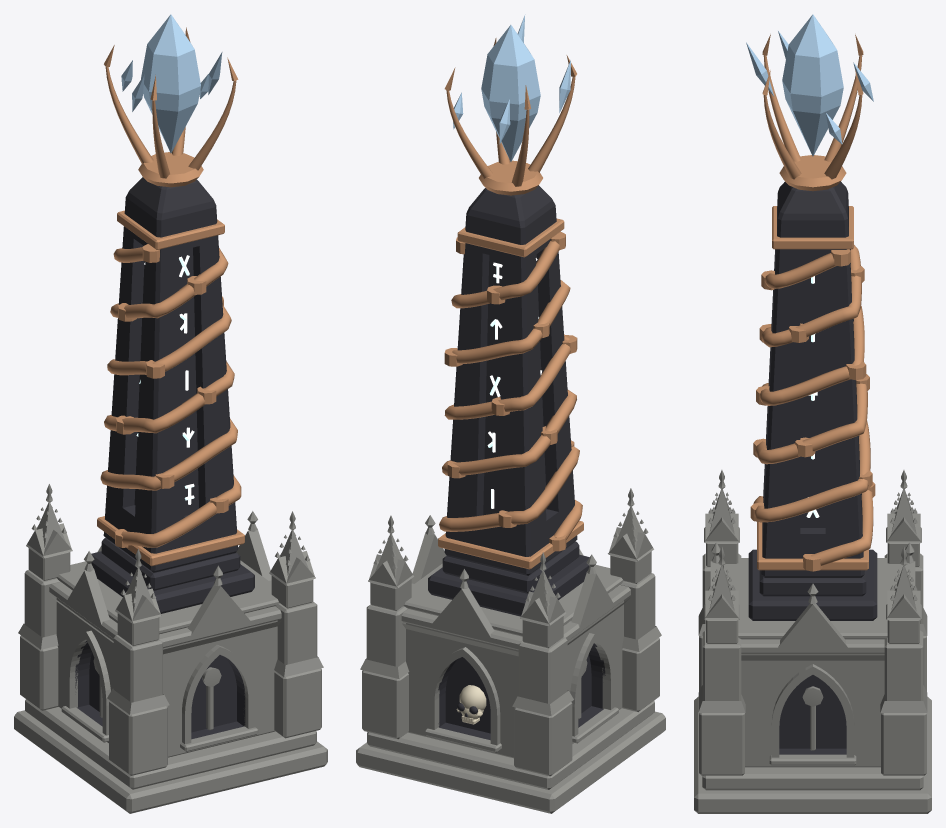
The model's file is tower_storm_3.glb.
The picture shows the model from 3 angles, left to right: view 1: azimuth 30°, elevation 25°; view 2: azimuth 150°, elevation 25°; view 3: azimuth 270°, elevation 25°; orthographic projection. The views are drawn at different scales.
Visible parts, largest first — view 1: tower, crystal; view 2: tower, crystal; view 3: tower, crystal.
Part boxes in pixels (bbox=[...]): tower: bbox=[14, 27, 327, 813]; crystal: bbox=[121, 14, 222, 153]; tower: bbox=[356, 38, 665, 813]; crystal: bbox=[453, 14, 570, 161]; tower: bbox=[694, 34, 931, 813]; crystal: bbox=[746, 14, 873, 156].
Bounding box in the file's own units: 1.7 × 5.92 × 1.7.
